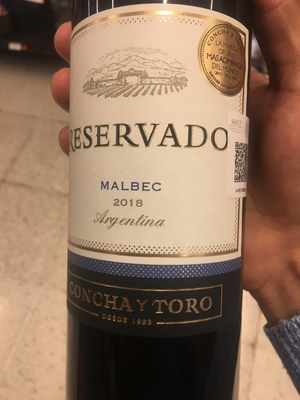reservado malbec: (63, 6, 243, 399)
